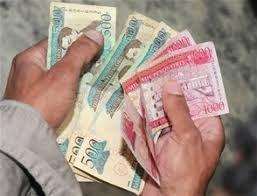billete: (46, 1, 230, 193)
